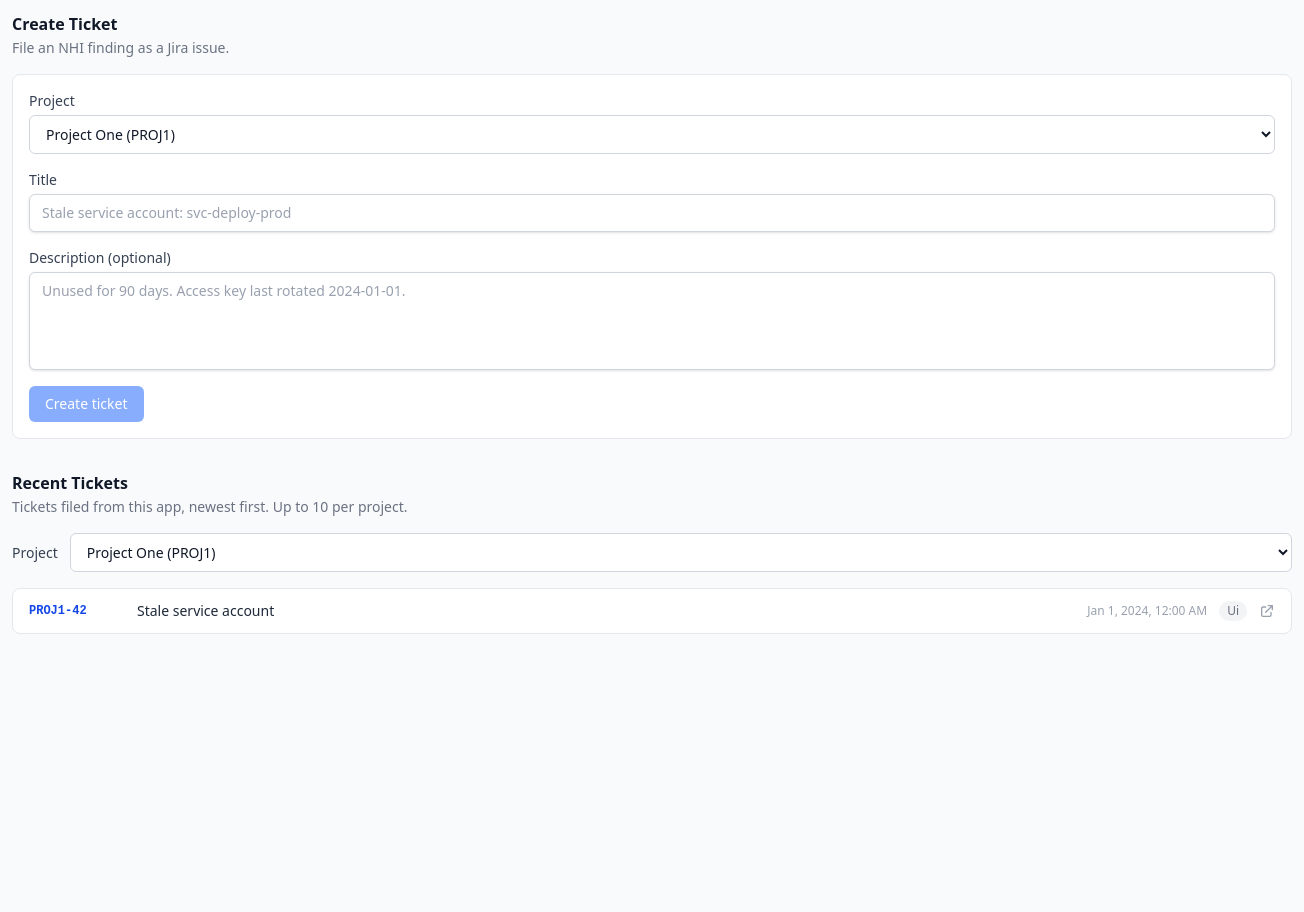
Scenario: TicketsSection — create ticket (success) › shows the success banner with issue key and hyphen separator (no em dash)
Expected: the number of dropdowns labelled "Project" is 2, [29, 115, 1275, 154]; [70, 533, 1292, 572]
Type "Stale service account" into the field labelled "Title" at (652, 213), box [29, 194, 1275, 232]
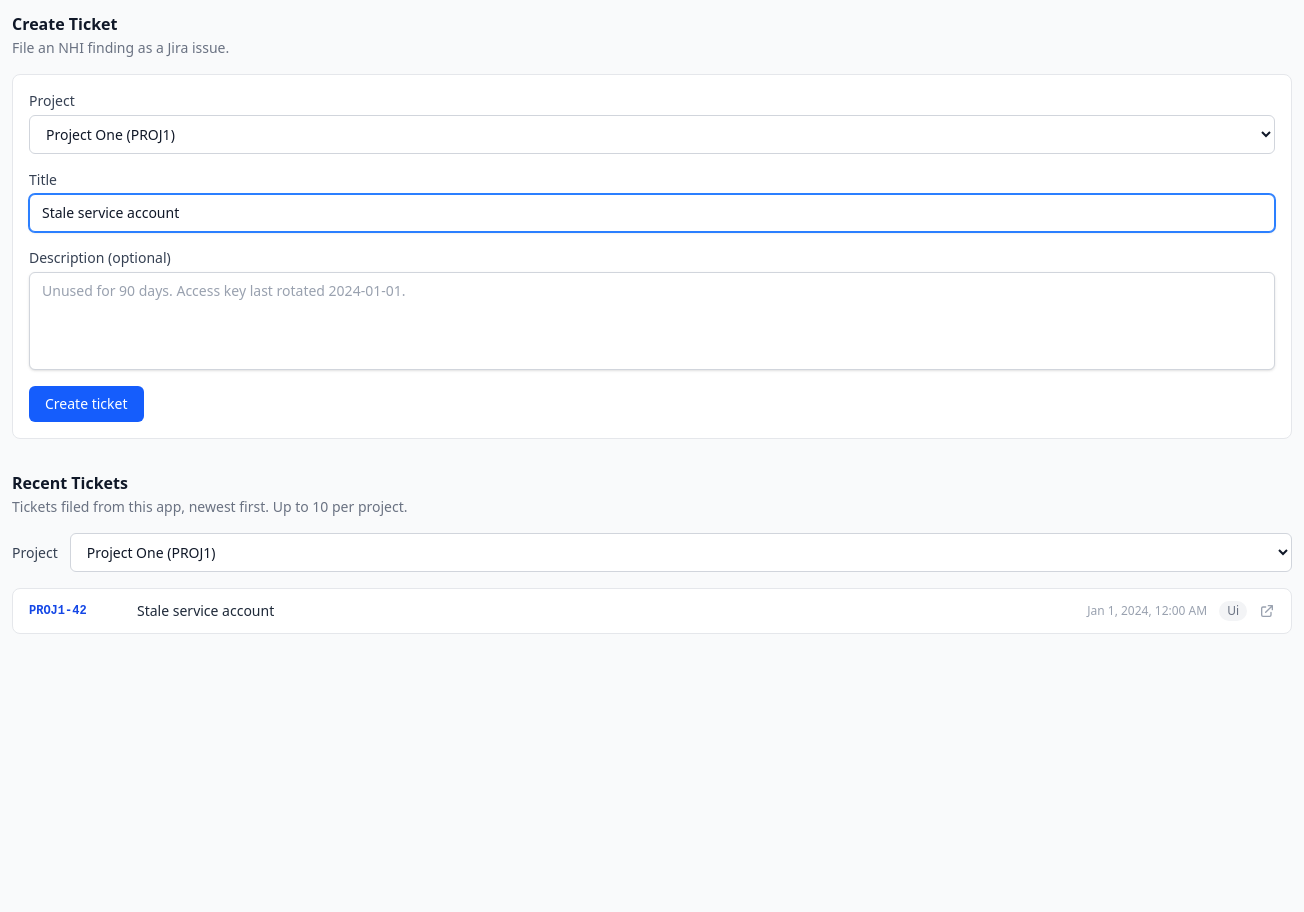
Click the button "Create ticket" at (86, 404), box [29, 386, 144, 422]
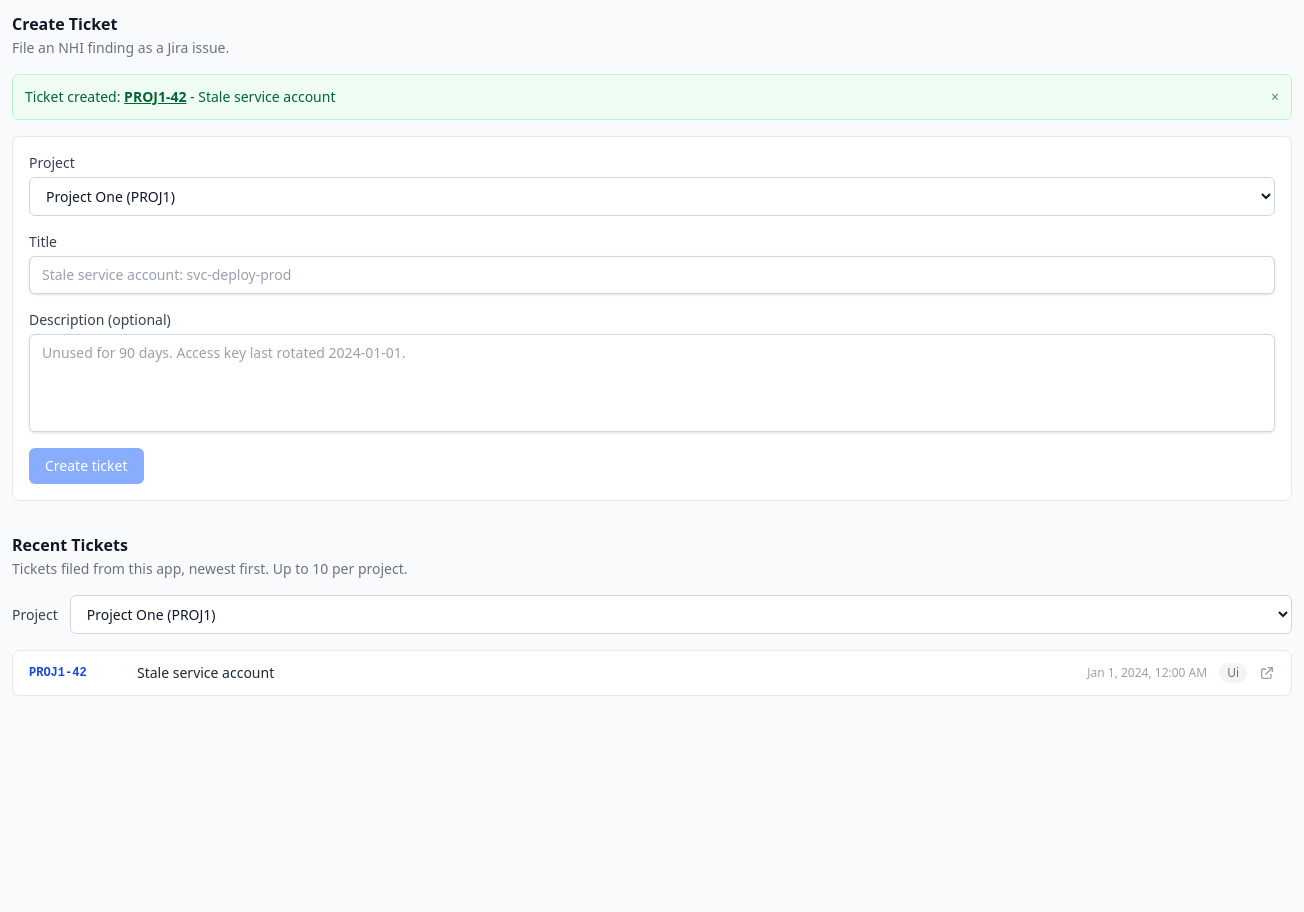
Expected: the text "- Stale service account" is shown, [25, 87, 336, 106]
